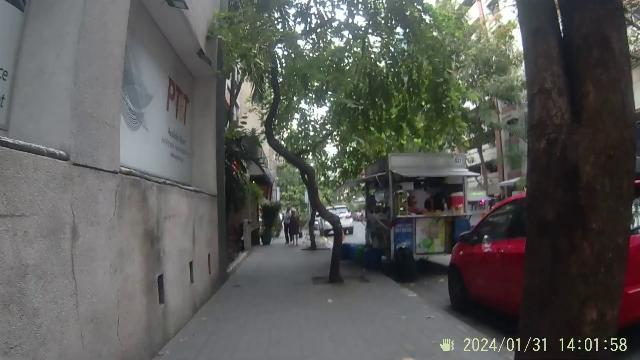street_vendor_cart: (362, 147, 472, 268)
tree: (510, 0, 640, 326), (293, 144, 351, 288)
